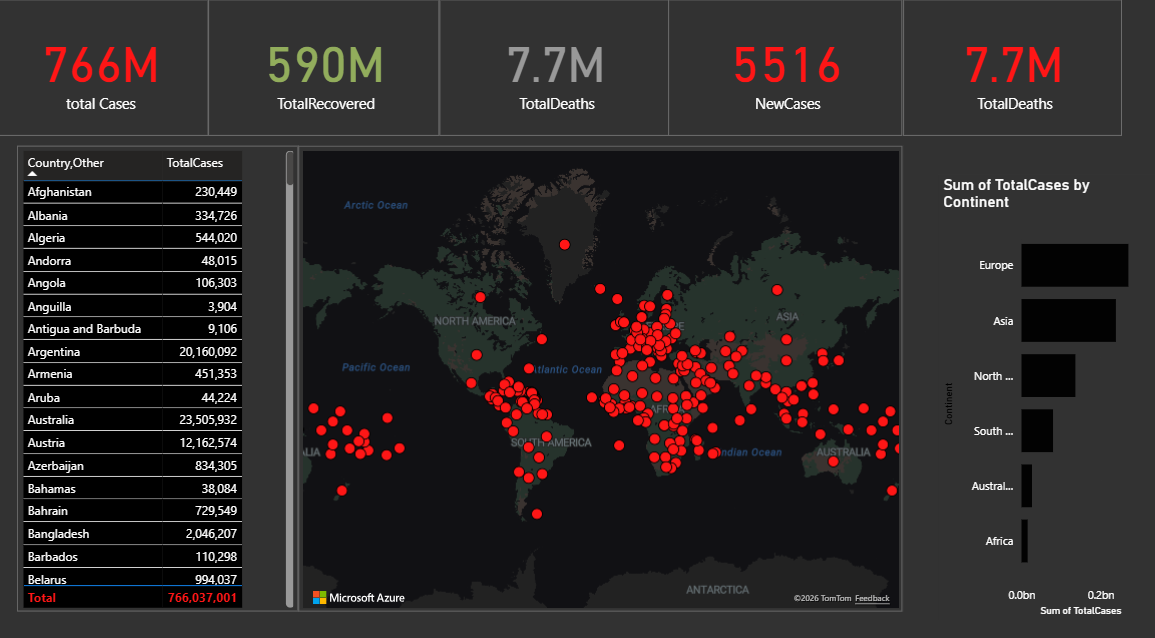

What the dashboard file says about the page in this screenshot:
{"tool":"powerbi","page":{"name":"Page ١","canvas":[1280,720],"ordinal":0},"visuals":[{"type":"card","fields":{"Values":["Sum(Table 1.TotalCases)"]},"box":[0,13.3,237.6,149.5],"z":0},{"type":"card","fields":{"Values":["Sum(Table 1.TotalRecovered)"]},"box":[237.6,13.3,253.3,149.5],"z":1000},{"type":"card","fields":{"Values":["Sum(Table 1.TotalDeaths)"]},"box":[491.3,13.7,252.5,149.6],"z":2000},{"type":"card","fields":{"Values":["Sum(Table 1.NewCases)"]},"box":[742.9,13.3,256.9,149.5],"z":3000},{"type":"tableEx","fields":{"Values":["Table 1.Country,Other","Sum(Table 1.TotalCases)"]},"box":[27.7,174.9,308.7,511.4],"z":4000},{"type":"clusteredBarChart","fields":{"Category":["Table 1.Continent","Table 1.Country,Other"],"Y":["Sum(Table 1.TotalCases)"]},"box":[1038.4,206.2,241.2,489.6],"z":5000},{"type":"card","fields":{"Values":["Sum(Table 1.TotalDeaths)"]},"box":[999.8,13.3,240,149.5],"z":6000},{"type":"map","fields":{"Category":["Table 1.Country,Other"]},"box":[336.5,174.9,663.3,511.4],"z":7000}]}

Visuals, with their boxes in screenshot pixels (x1, y1, x2, y2), scaled from the page's 1280x720 canvas onto the 1155x638 screenshot:
card - Sum(Table 1.TotalCases): left=0, top=12, right=214, bottom=144
card - Sum(Table 1.TotalRecovered): left=214, top=12, right=443, bottom=144
card - Sum(Table 1.TotalDeaths): left=443, top=12, right=671, bottom=145
card - Sum(Table 1.NewCases): left=670, top=12, right=902, bottom=144
tableEx - Table 1.Country,Other x Sum(Table 1.TotalCases): left=25, top=155, right=304, bottom=608
clusteredBarChart - Table 1.Continent x Table 1.Country,Other: left=937, top=183, right=1154, bottom=617
card - Sum(Table 1.TotalDeaths): left=902, top=12, right=1119, bottom=144
map - Table 1.Country,Other: left=304, top=155, right=902, bottom=608
